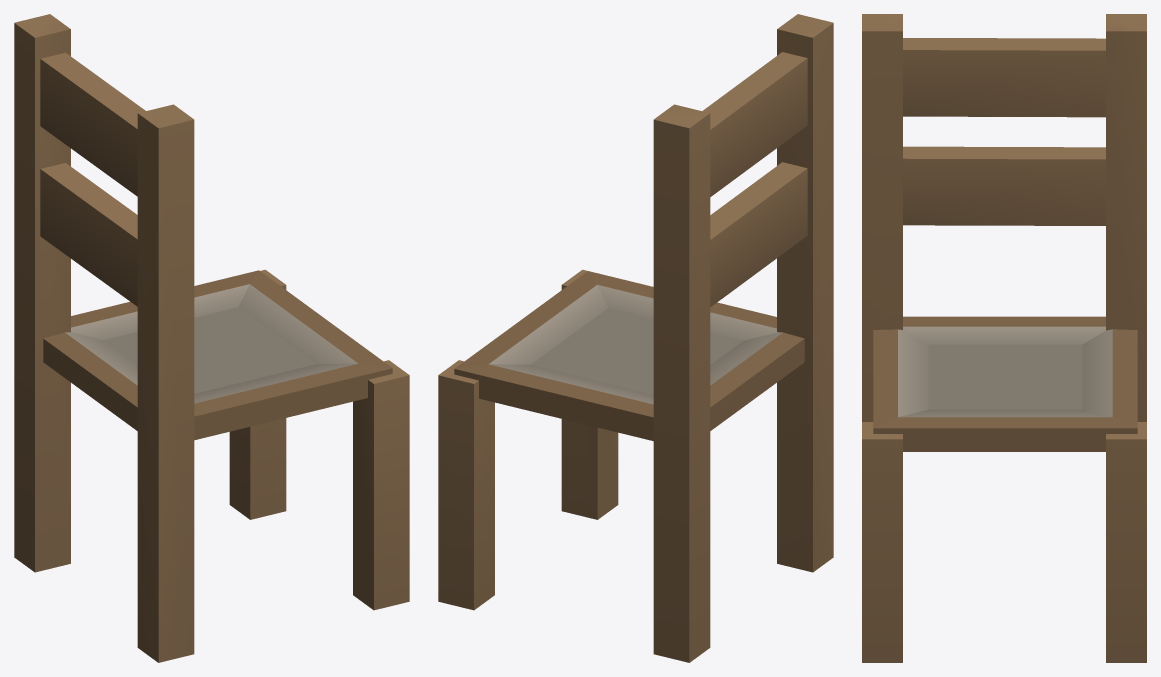
File: basicchair.glb
3 renders of one model, left to right at view 1: azimuth 30°, elevation 25°; view 2: azimuth 150°, elevation 25°; view 3: azimuth 270°, elevation 25°, orthographic.
Parts seen in each view (by area): view 1: Cube.005; view 2: Cube.005; view 3: Cube.005.
Part boxes in pixels (x1,y1,x2,y2): Cube.005: (14,14,409,662); Cube.005: (438,14,833,662); Cube.005: (862,14,1146,662).
Bounding box in the file's own units: 0.5796 × 1.18 × 0.5765.
